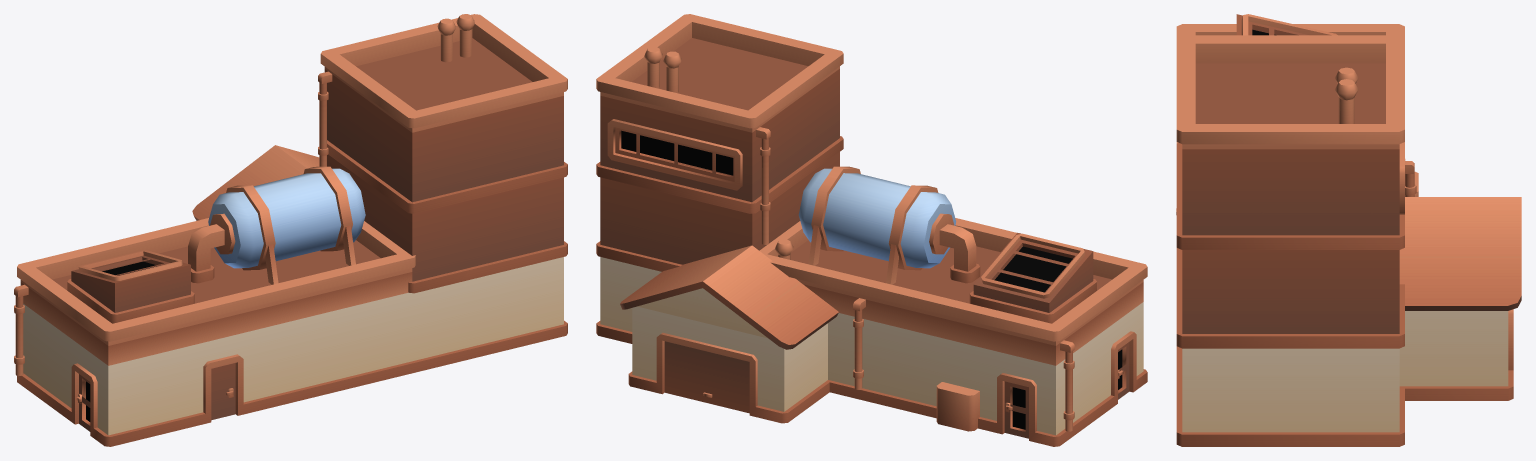
Rendered from building-r.glb.
3 renders of one model, left to right at view 1: azimuth 30°, elevation 25°; view 2: azimuth 150°, elevation 25°; view 3: azimuth 270°, elevation 25°, orthographic. The views are drawn at different scales.
Visible parts, largest first — view 1: building-r; view 2: building-r; view 3: building-r.
Part boxes in pixels (x1,y1,x2,y2): building-r: (14,14,567,446); building-r: (596,14,1147,446); building-r: (1176,14,1521,446).
Bounding box in the file's own units: 2.48 × 1.39 × 1.27.
Materials: 1 (1 with a texture image).
